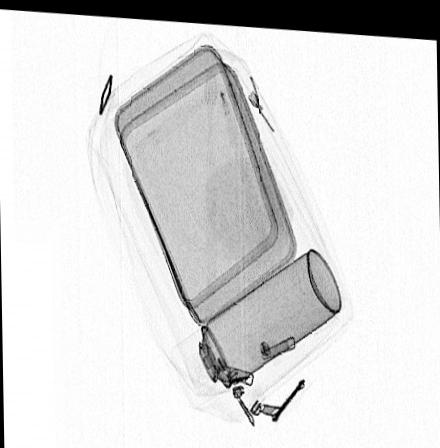Sprayer: (170, 243, 341, 404)
